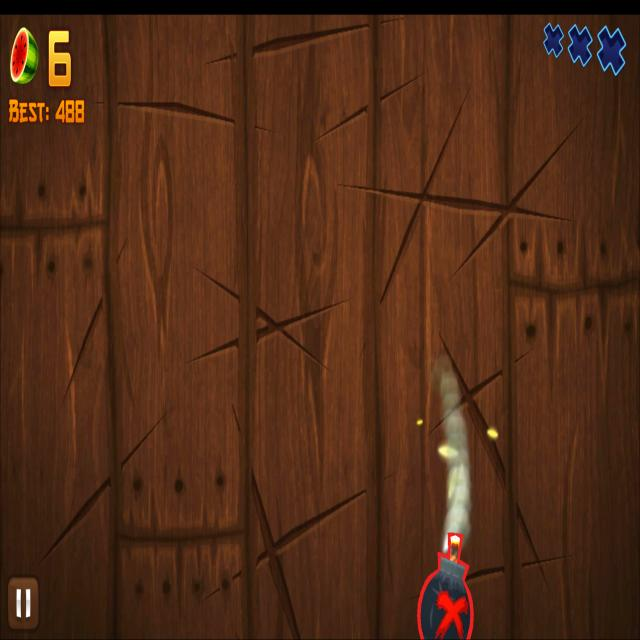bomb: (416, 530, 475, 640)
